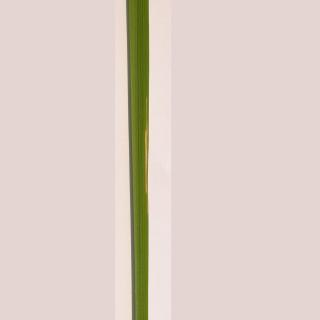Hawar-Daun: (134, 123, 158, 202)
